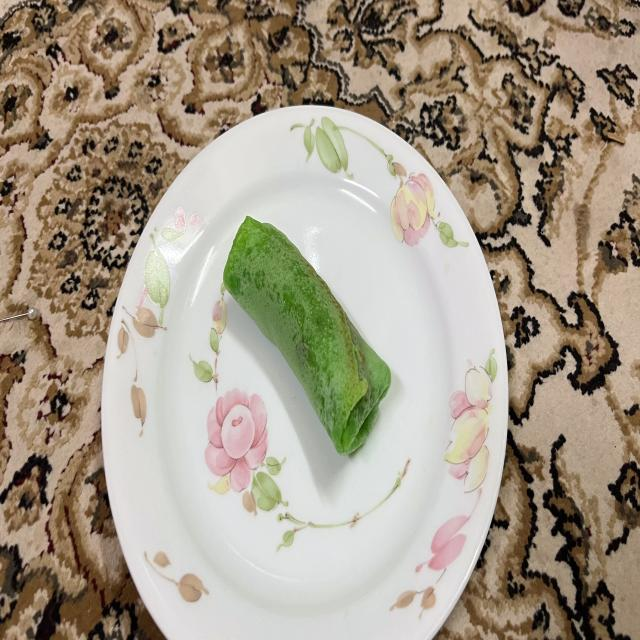Kuih-Ketayap: (224, 216, 391, 456)
